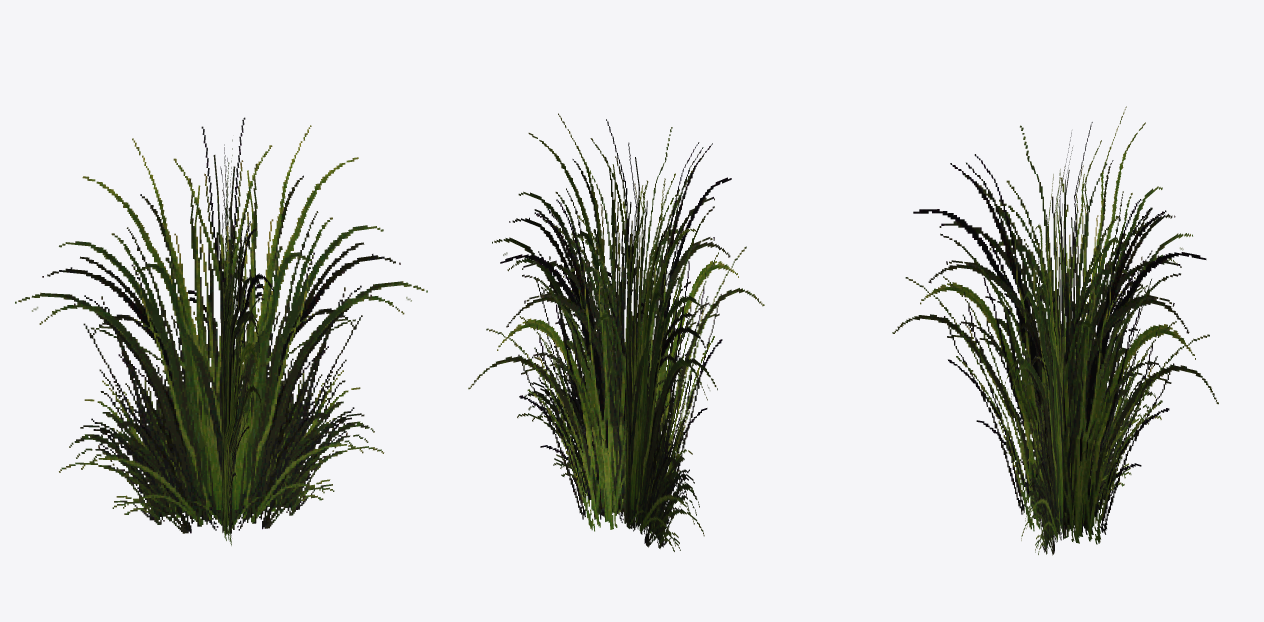
File: grass1.glb
The picture shows the model from 3 angles, left to right: view 1: azimuth 30°, elevation 25°; view 2: azimuth 150°, elevation 25°; view 3: azimuth 270°, elevation 25°; orthographic projection. The views are drawn at different scales.
Visible parts, largest first — view 1: grass1.002; view 2: grass1.002; view 3: grass1.002.
Boxes of the visible parts, x1,y1,x2,y2 form: grass1.002: [15, 117, 427, 545]; grass1.002: [468, 113, 764, 551]; grass1.002: [892, 106, 1218, 555].
Size of the model in its own units: 0.7511 by 1.04 by 0.8297.
Materials: 1 (1 with a texture image).
